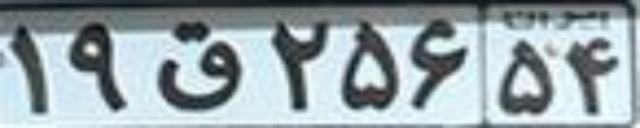1: (7, 25, 50, 112)
2: (268, 21, 327, 111)
4: (564, 37, 623, 116)
5: (338, 21, 399, 109), (495, 40, 557, 114)
6: (406, 18, 467, 109)
9: (65, 24, 125, 110)
ghaf: (154, 21, 245, 111)
